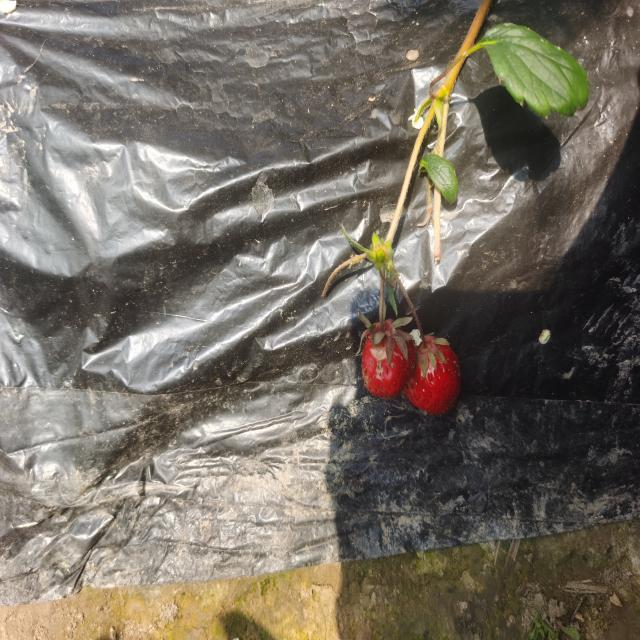stem: (414, 313, 429, 350), (379, 293, 386, 334)
strawberry: (404, 336, 461, 415), (362, 328, 416, 398)
